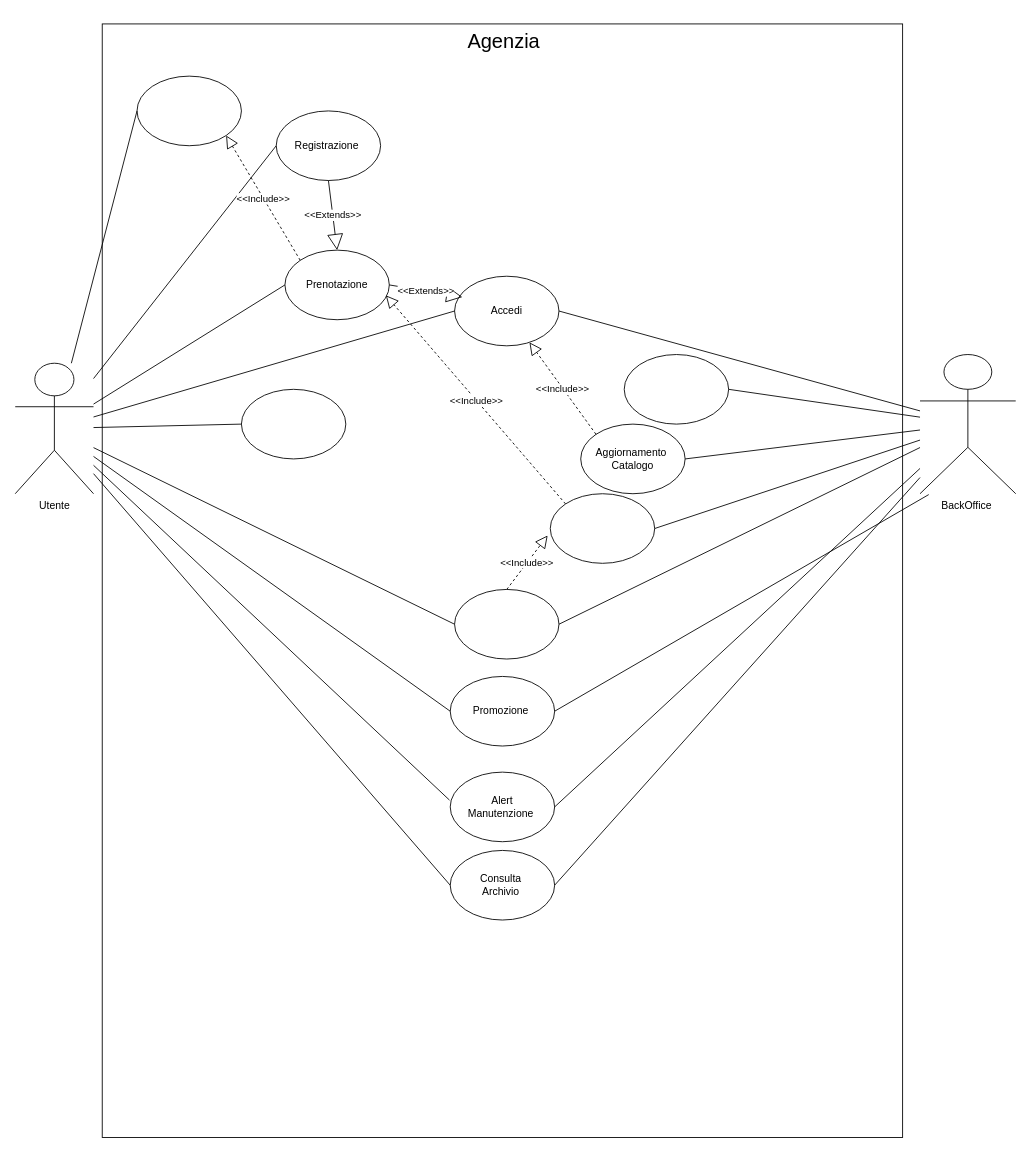
This 1031x1153 diagram has some shape labels left out. The box of each missing label's shape, as (x1, y1, x2, y2) in pixels:
Cancellazione Prenotazione: (454, 589, 559, 659)
Controllo documenti: (623, 354, 729, 424)
Convalidare prenotazione: (549, 493, 655, 563)
Indice di gradimento: (241, 388, 346, 459)
Visualizza Catalogo: (136, 75, 241, 146)
